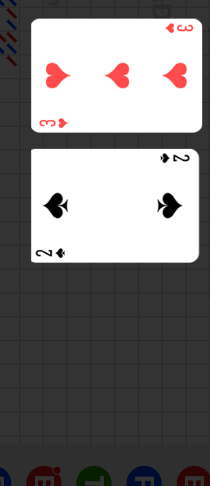2S: (35, 246, 68, 260)
3H: (162, 22, 194, 35)
